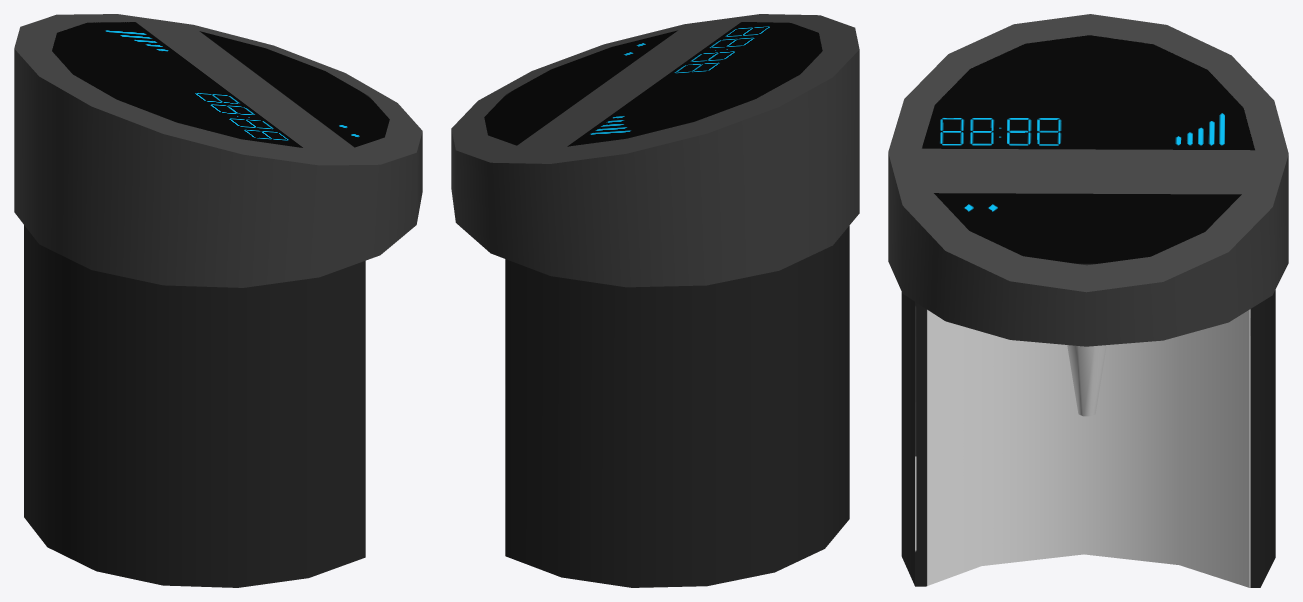
File: Kettle.fbx
3 renders of one model, left to right at view 1: azimuth 30°, elevation 25°; view 2: azimuth 150°, elevation 25°; view 3: azimuth 270°, elevation 25°, orthographic. The views are drawn at different scales.
Parts seen in each view (by area): view 1: Kettle; view 2: Kettle; view 3: Kettle.
Boxes of the visible parts, <box> form: Kettle: <box>14,14,422,587</box>; Kettle: <box>451,14,859,587</box>; Kettle: <box>888,14,1288,587</box>.
Bounding box in the file's own units: 26.16 × 33.16 × 26.16.
Materials: 1 (1 with a texture image).
